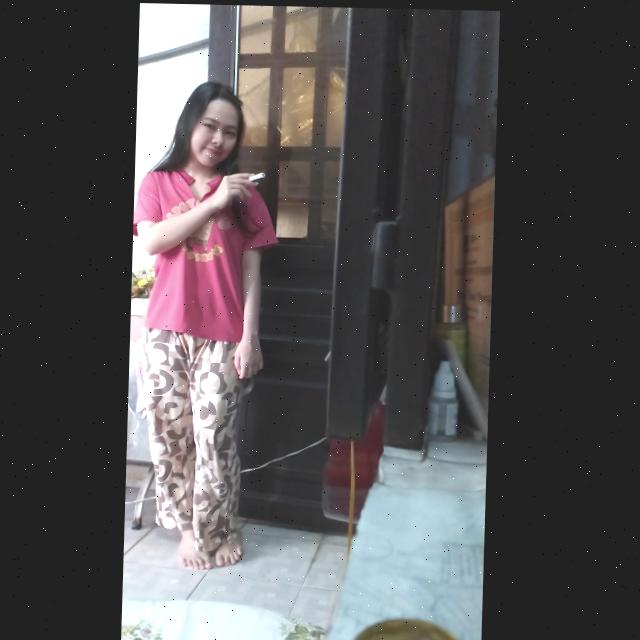cigarette: (249, 171, 267, 182)
